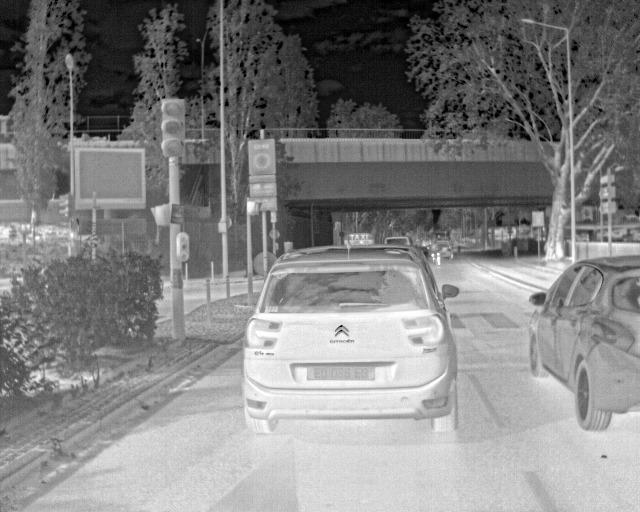car: (241, 243, 460, 433), (527, 255, 639, 432), (342, 232, 375, 246), (430, 240, 453, 259), (384, 236, 413, 247), (421, 239, 430, 246)
light: (161, 98, 185, 157), (151, 204, 171, 226), (176, 232, 189, 262), (247, 201, 259, 216), (271, 208, 276, 223), (275, 243, 279, 251)
sign: (75, 148, 146, 210), (248, 139, 276, 175), (253, 252, 277, 277), (247, 197, 278, 212), (249, 184, 277, 197), (598, 201, 618, 214), (248, 175, 277, 183), (599, 186, 616, 199), (532, 210, 544, 227), (219, 216, 233, 230), (600, 174, 615, 184), (269, 230, 280, 239), (284, 242, 293, 252), (339, 232, 345, 237)
